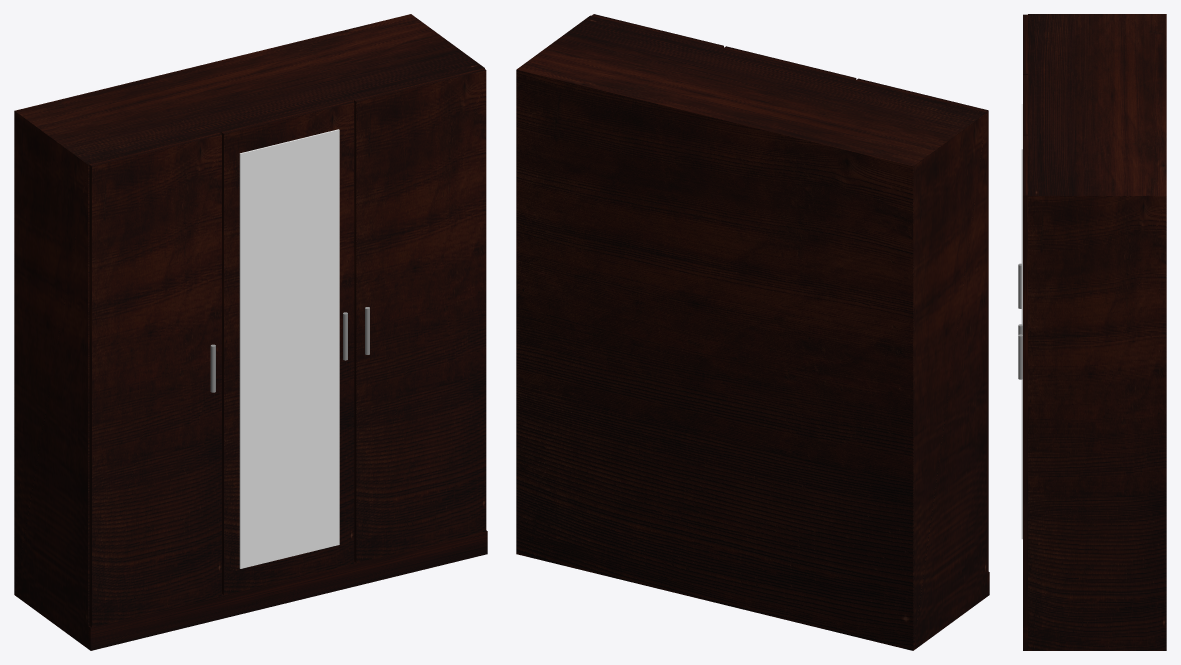
File: state-default.glb
3 renders of one model, left to right at view 1: azimuth 30°, elevation 25°; view 2: azimuth 150°, elevation 25°; view 3: azimuth 270°, elevation 25°, orthographic. The views are drawn at different scales.
Visible parts, largest first — view 1: assetPrim:1765e77823bda8-19c7334745f:wardrobe-body, assetPrim:1765e77823bda8-19c7334745f:wardrobe-door-left, assetPrim:1765e77823bda8-19c7334745f:wardrobe-door-right, assetPrim:1765e77823bda8-19c7334745f:wardrobe-mirror, assetPrim:1765e77823bda8-19c7334745f:wardrobe-door-middle, assetPrim:1765e77823bda8-19c7334745f:wardrobe-kickplate; view 2: assetPrim:1765e77823bda8-19c7334745f:wardrobe-body, assetPrim:1765e77823bda8-19c7334745f:wardrobe-door-left; view 3: assetPrim:1765e77823bda8-19c7334745f:wardrobe-body, assetPrim:1765e77823bda8-19c7334745f:wardrobe-door-right, assetPrim:1765e77823bda8-19c7334745f:wardrobe-mirror, assetPrim:1765e77823bda8-19c7334745f:wardrobe-door-left, assetPrim:1765e77823bda8-19c7334745f:wardrobe-door-middle.
Boxes of the visible parts, left/top/right/bottom form: assetPrim:1765e77823bda8-19c7334745f:wardrobe-body: left=14, top=14, right=484, bottom=648; assetPrim:1765e77823bda8-19c7334745f:wardrobe-door-left: left=89, top=133, right=221, bottom=627; assetPrim:1765e77823bda8-19c7334745f:wardrobe-door-right: left=354, top=68, right=486, bottom=562; assetPrim:1765e77823bda8-19c7334745f:wardrobe-mirror: left=239, top=129, right=339, bottom=568; assetPrim:1765e77823bda8-19c7334745f:wardrobe-door-middle: left=221, top=100, right=354, bottom=595; assetPrim:1765e77823bda8-19c7334745f:wardrobe-kickplate: left=88, top=530, right=487, bottom=650; assetPrim:1765e77823bda8-19c7334745f:wardrobe-body: left=516, top=15, right=986, bottom=650; assetPrim:1765e77823bda8-19c7334745f:wardrobe-door-left: left=856, top=78, right=988, bottom=572; assetPrim:1765e77823bda8-19c7334745f:wardrobe-body: left=1028, top=14, right=1166, bottom=650; assetPrim:1765e77823bda8-19c7334745f:wardrobe-door-right: left=1023, top=135, right=1027, bottom=628; assetPrim:1765e77823bda8-19c7334745f:wardrobe-mirror: left=1021, top=104, right=1022, bottom=539; assetPrim:1765e77823bda8-19c7334745f:wardrobe-door-left: left=1023, top=14, right=1027, bottom=74; assetPrim:1765e77823bda8-19c7334745f:wardrobe-door-middle: left=1023, top=75, right=1027, bottom=135.
Size of the model in its own units: 1.8 by 2.1 by 0.62.
Materials: 9 (5 with a texture image).
